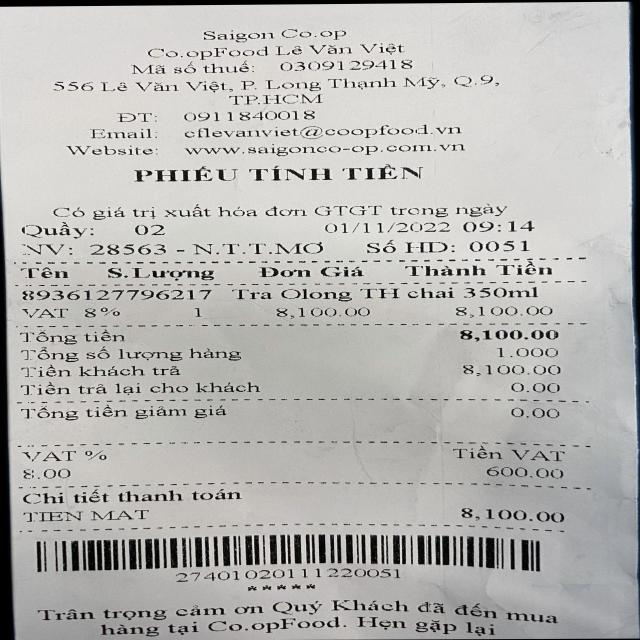Date: (302, 217, 456, 236)
Store_Name: (175, 21, 389, 41)
amount_number: (456, 328, 565, 345)
label_total: (16, 329, 130, 345)
